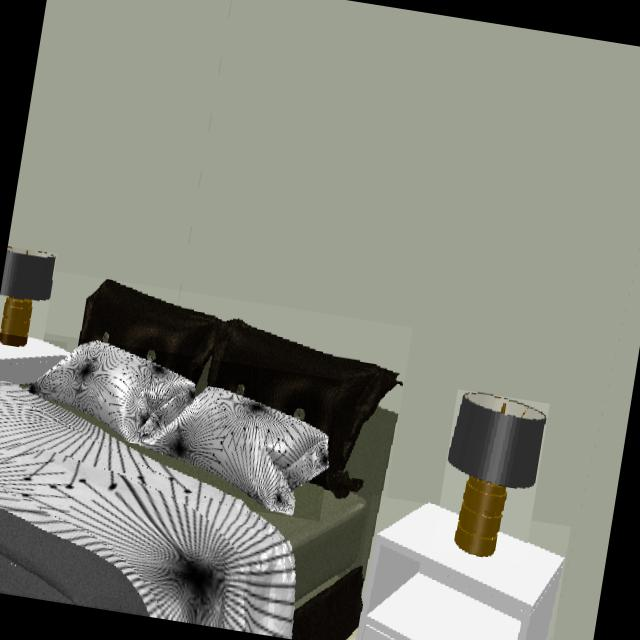bed: (0, 280, 399, 640)
lamp: (446, 392, 547, 558), (0, 246, 56, 350)
nighttable: (352, 504, 564, 640), (0, 339, 65, 387)
pillow: (32, 342, 329, 517)
